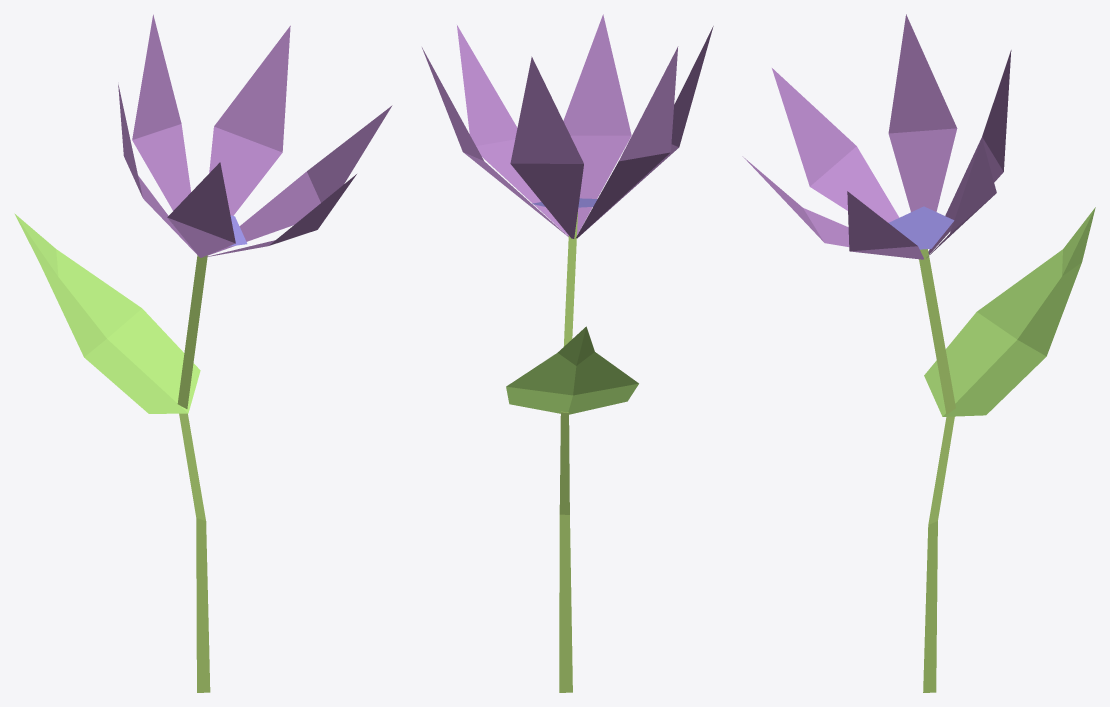
File: Flower_b_OneS_06.fbx
3 renders of one model, left to right at view 1: azimuth 30°, elevation 25°; view 2: azimuth 150°, elevation 25°; view 3: azimuth 270°, elevation 25°, orthographic. The views are drawn at different scales.
Parts seen in each view (by area): view 1: Flower_b_OneS_06; view 2: Flower_b_OneS_06; view 3: Flower_b_OneS_06.
Boxes of the visible parts, x1,y1,x2,y2 form: Flower_b_OneS_06: [14, 14, 392, 692]; Flower_b_OneS_06: [422, 14, 713, 692]; Flower_b_OneS_06: [742, 14, 1095, 692].
Bounding box in the file's own units: 0.2078 × 0.5106 × 0.2565.
